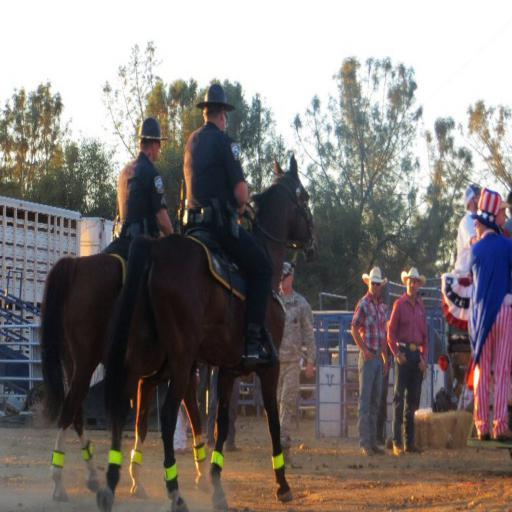horse: (100, 152, 316, 512), (38, 254, 212, 502)
